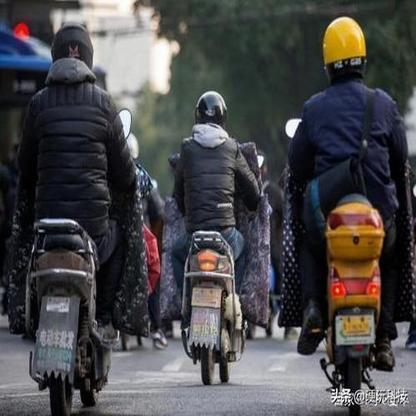target: (21, 22, 152, 400), (294, 17, 408, 406), (165, 90, 271, 384)
